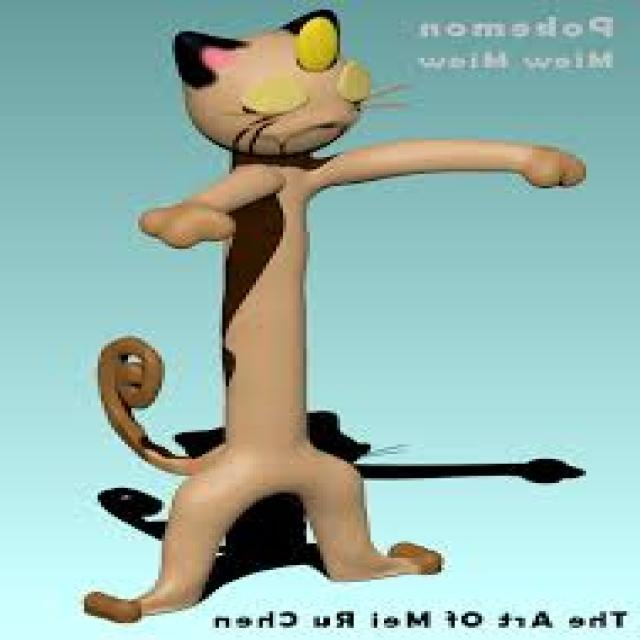Meowth: (166, 8, 383, 596)
